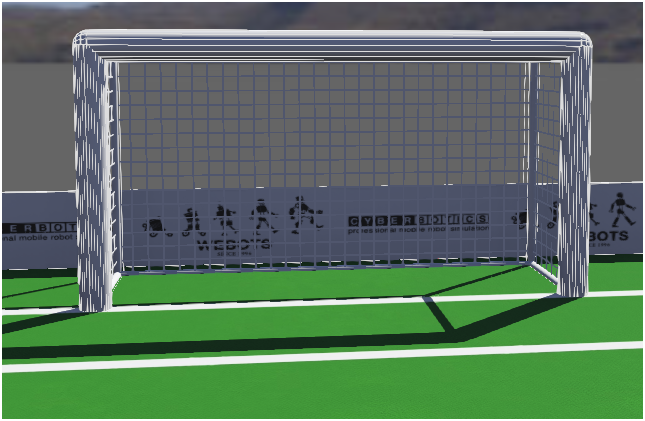Goal: (40, 18, 612, 349)
